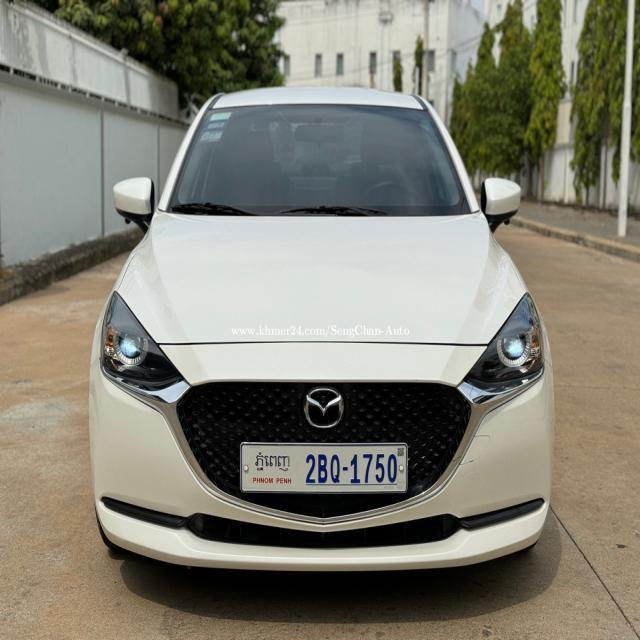Phnom_Penh: (250, 449, 294, 472)
